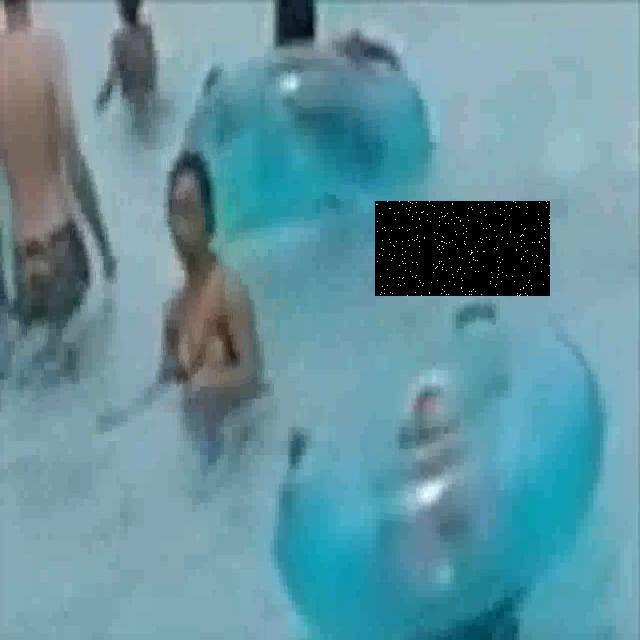Out of Water: (375, 201, 550, 296)
